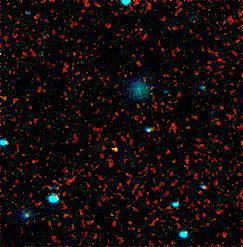star: (104, 135, 134, 165)
